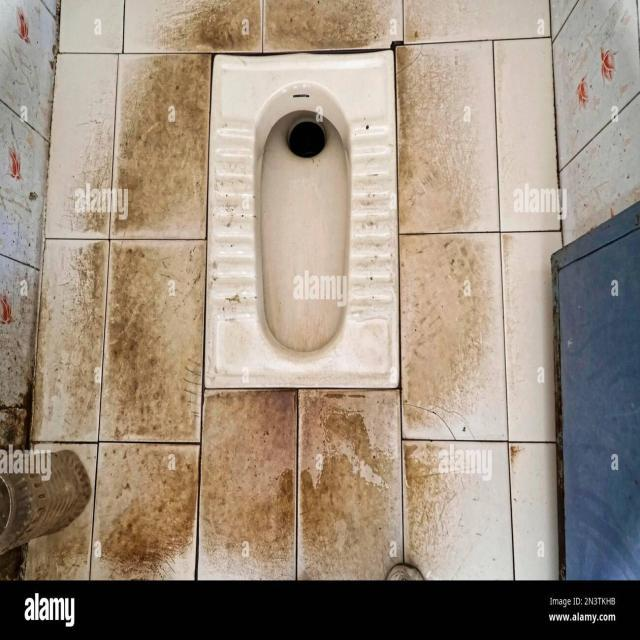dirty_floor: (1, 0, 637, 579)
